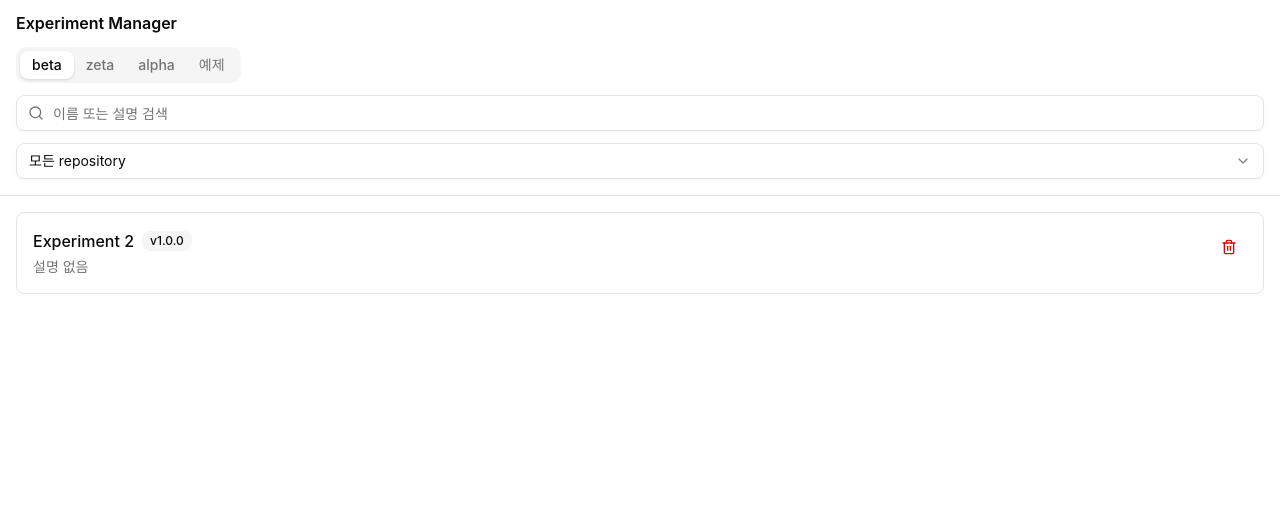
it: isolates catalog errors from saved namespaces
Expected: the text "Experiment 2" is shown, [33, 229, 134, 253]
Click the tab "예제" at (212, 65), box [187, 51, 237, 79]
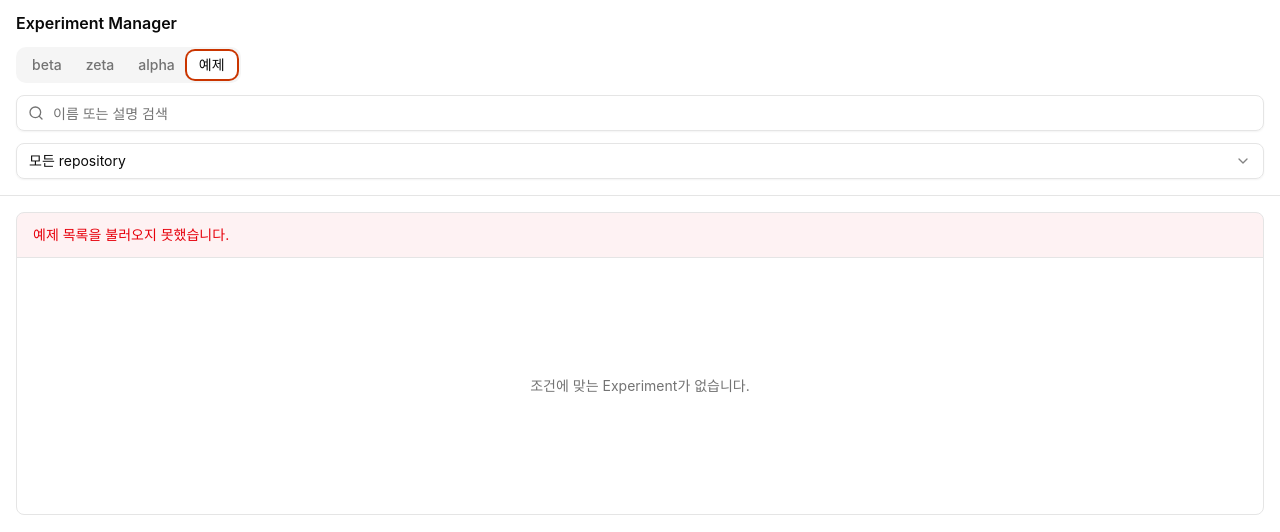
Expected: the message reads "예제 목록을 불러오지 못했습니다.", [33, 226, 229, 243]
Click the tab "beta" at (47, 65), box [20, 51, 74, 79]
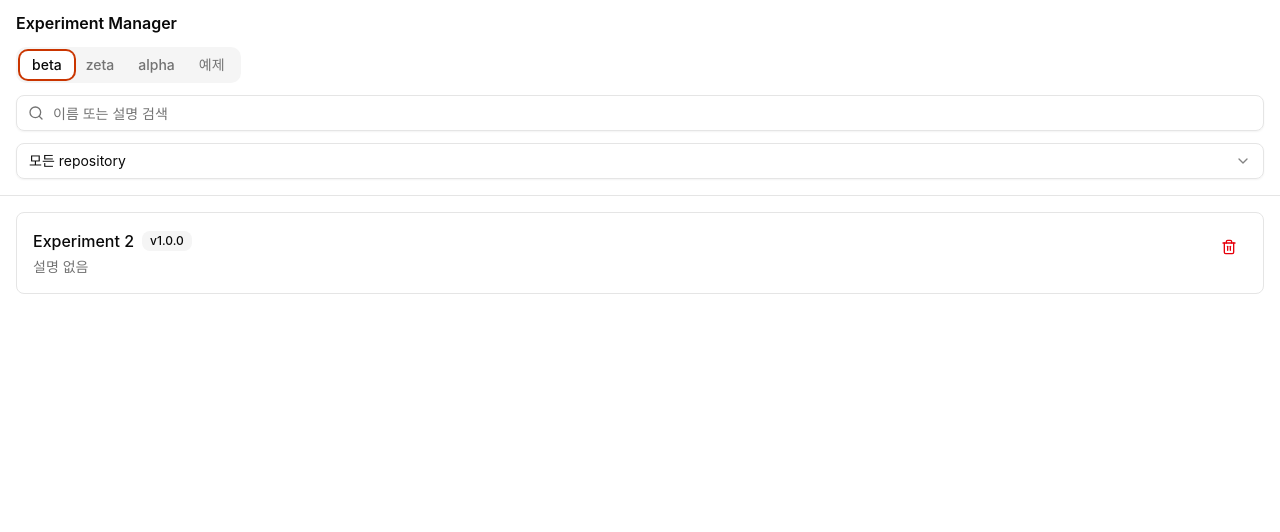
Expected: the message "예제 목록을 불러오지 못했습니다." is gone
Expected: the text "Experiment 2" is shown, [33, 229, 134, 253]
